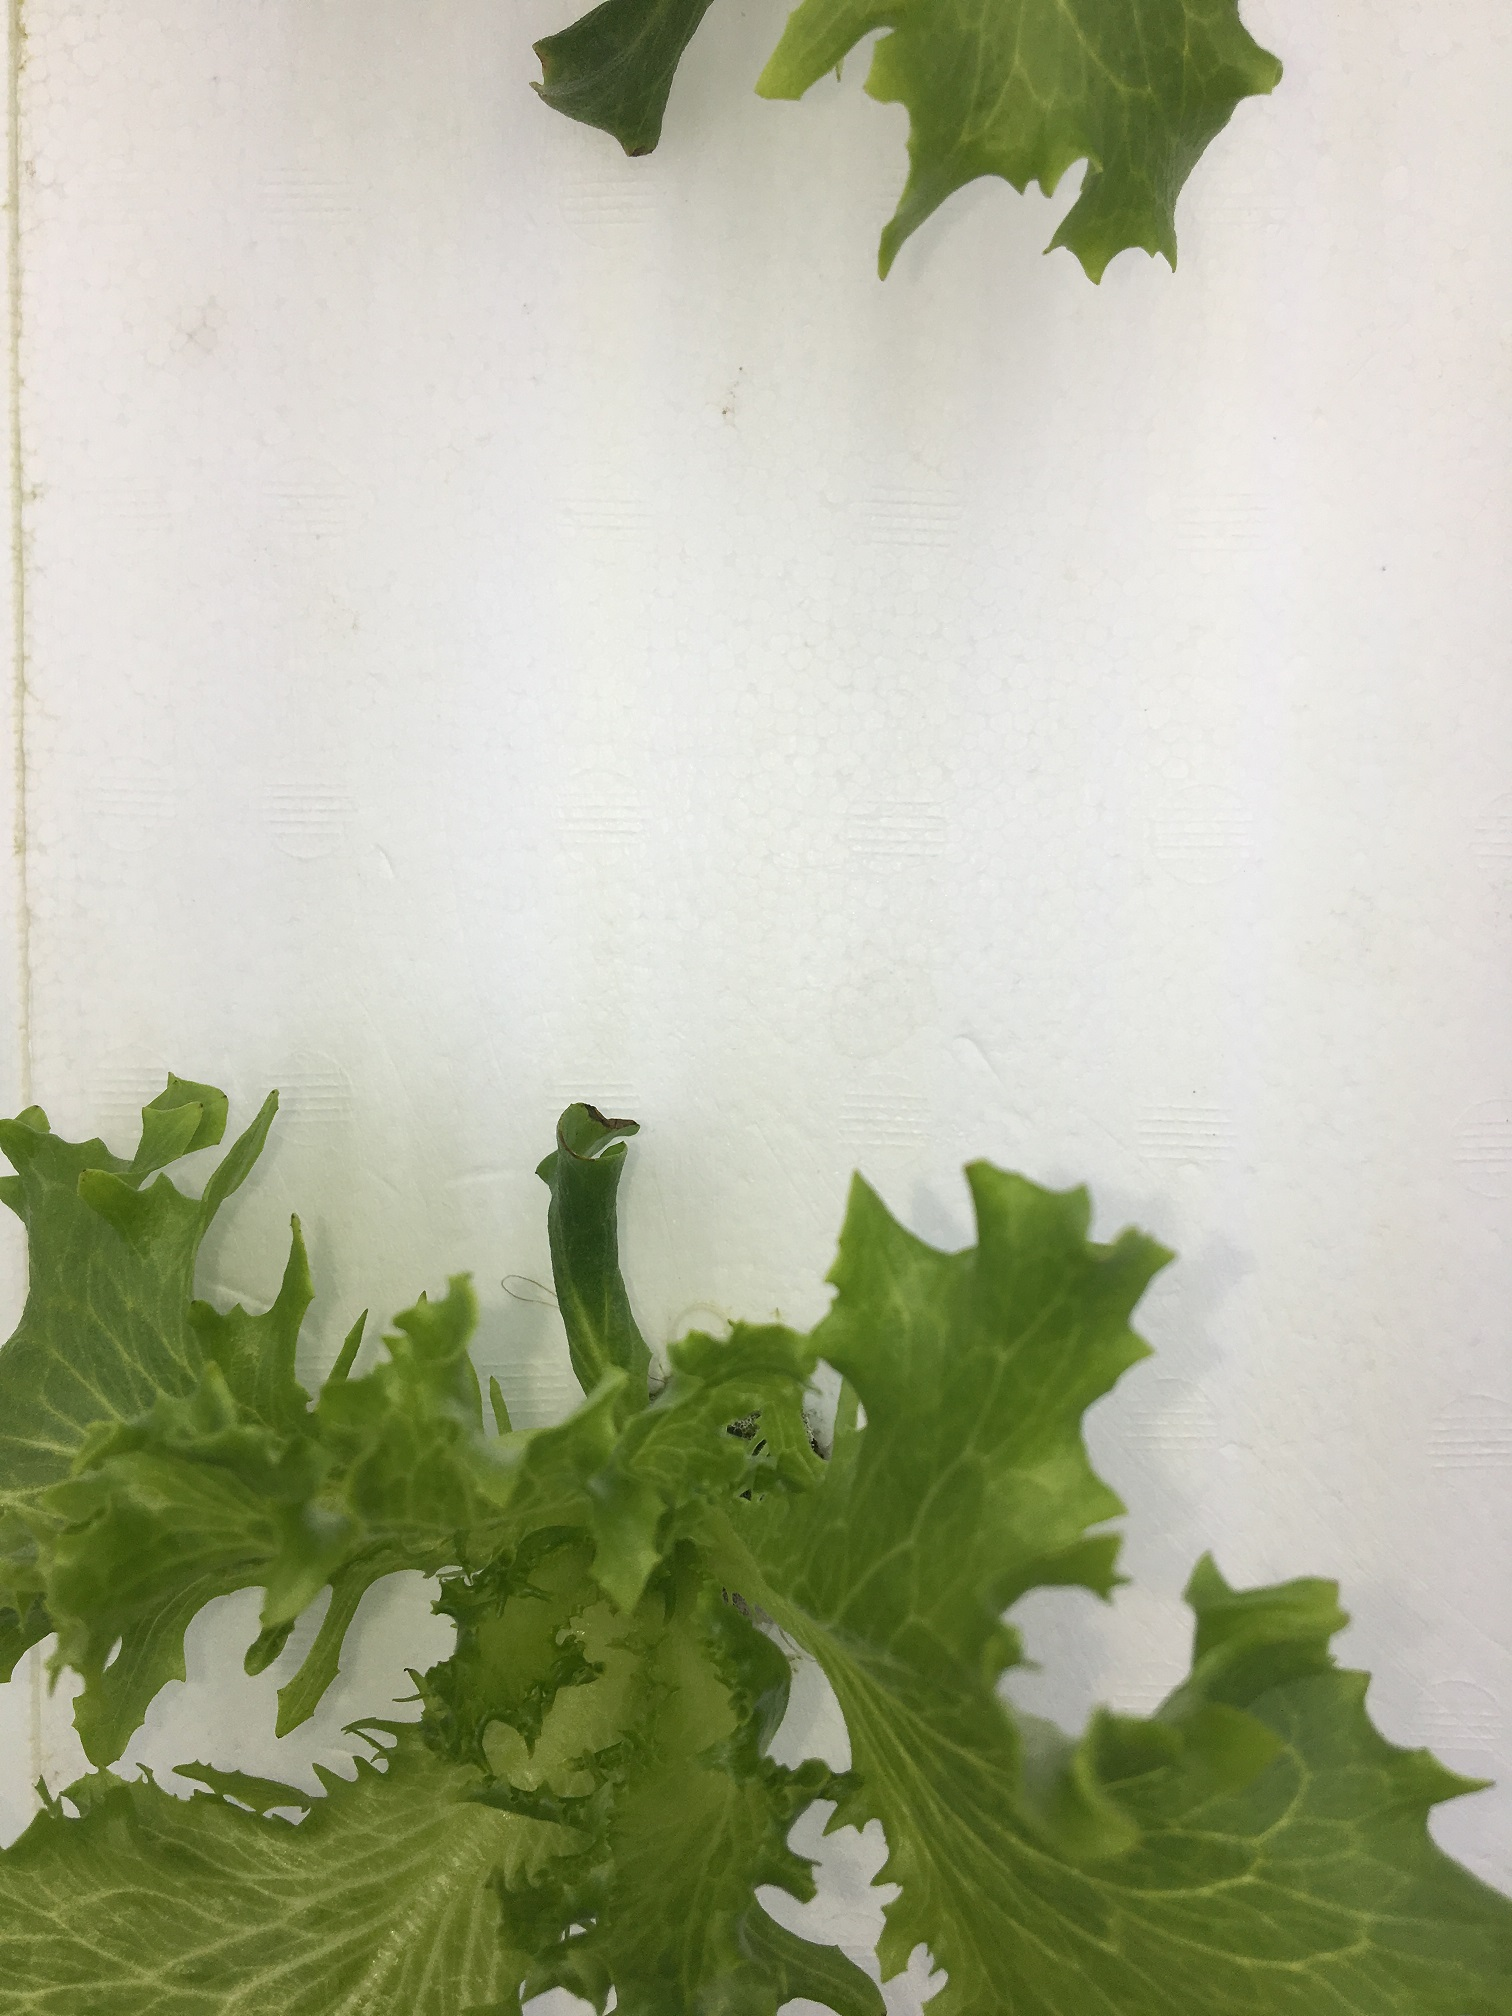tipburn: (580, 1083, 634, 1140), (618, 124, 664, 168), (550, 1129, 596, 1172), (527, 40, 562, 73), (186, 1091, 211, 1118), (221, 1083, 245, 1110)
